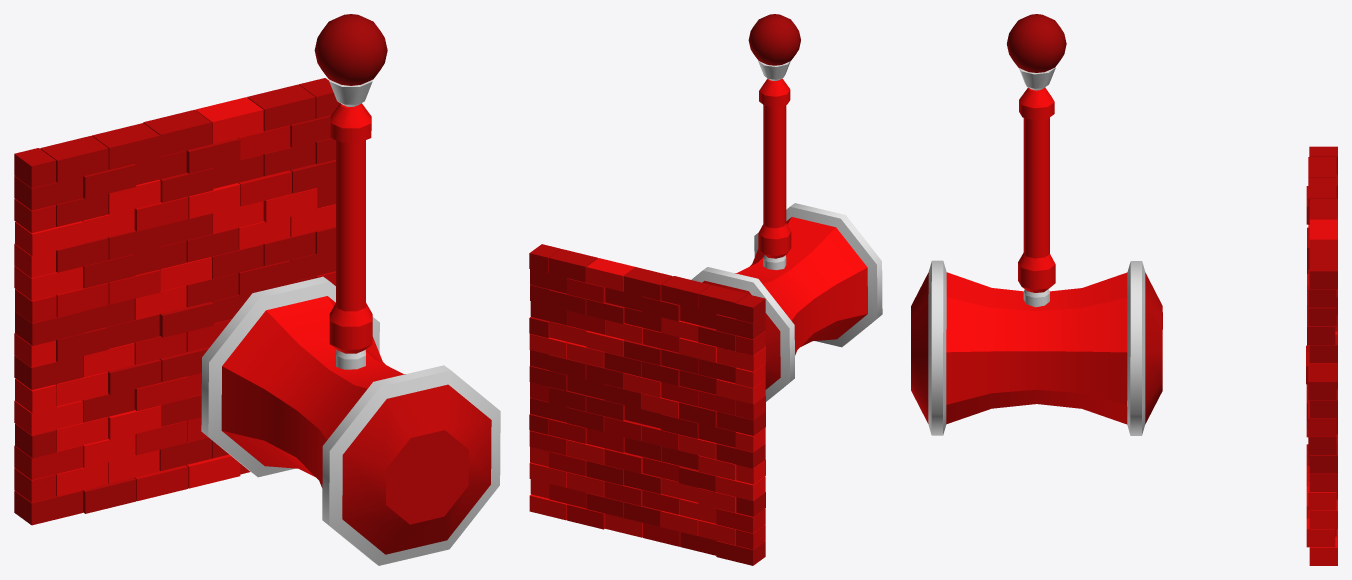
File: brickwall_obstacle.fbx
3 renders of one model, left to right at view 1: azimuth 30°, elevation 25°; view 2: azimuth 150°, elevation 25°; view 3: azimuth 270°, elevation 25°, orthographic. The views are drawn at different scales.
Visible parts, largest first — view 1: hammer_obstacle, Cube.102, Cube.098, Cube.099, Cube.100, Cube.101, Cube.078, Cube, Cube.026, Cube.052, Cube.091, Cube.039 (+69 smaller); view 2: hammer_obstacle, Cube.100, Cube.098, Cube.102, Cube.099, Cube.101, Cube.026, Cube.091, Cube.013, Cube, Cube.039, Cube.065 (+86 smaller); view 3: hammer_obstacle, Cube.103, Cube.099, Cube.100, Cube.012, Cube.098, Cube.101, Cube.102, Cube.005, Cube.083, Cube.096, Cube.077 (+10 smaller).
Part boxes in pixels (bbox=[...]): hammer_obstacle: bbox=[201, 14, 500, 565]; Cube.102: bbox=[247, 84, 315, 131]; Cube.098: bbox=[40, 135, 108, 182]; Cube.099: bbox=[92, 123, 160, 169]; Cube.100: bbox=[143, 110, 211, 156]; Cube.101: bbox=[195, 97, 263, 143]; Cube.078: bbox=[15, 221, 83, 256]; Cube: bbox=[14, 490, 82, 525]; Cube.026: bbox=[14, 400, 82, 435]; Cube.052: bbox=[15, 311, 83, 345]; Cube.091: bbox=[14, 176, 82, 210]; Cube.039: bbox=[14, 355, 82, 389]; hammer_obstacle: bbox=[691, 14, 882, 401]; Cube.100: bbox=[623, 267, 672, 300]; Cube.098: bbox=[698, 285, 747, 318]; Cube.102: bbox=[549, 249, 597, 282]; Cube.099: bbox=[661, 276, 710, 309]; Cube.101: bbox=[586, 258, 635, 291]; Cube.026: bbox=[716, 476, 765, 500]; Cube.091: bbox=[716, 314, 765, 339]; Cube.013: bbox=[716, 508, 765, 533]; Cube: bbox=[716, 541, 765, 565]; Cube.039: bbox=[716, 443, 765, 468]; Cube.065: bbox=[716, 379, 765, 404]; hammer_obstacle: bbox=[911, 14, 1162, 435]; Cube.103: bbox=[1309, 260, 1337, 289]; Cube.099: bbox=[1308, 177, 1336, 216]; Cube.100: bbox=[1309, 198, 1337, 219]; Cube.012: bbox=[1306, 518, 1335, 547]; Cube.098: bbox=[1308, 157, 1336, 177]; Cube.101: bbox=[1309, 219, 1337, 239]; Cube.102: bbox=[1309, 240, 1337, 260]; Cube.005: bbox=[1309, 529, 1337, 565]; Cube.083: bbox=[1307, 306, 1335, 344]; Cube.096: bbox=[1308, 269, 1336, 307]; Cube.077: bbox=[1309, 334, 1337, 363].
Size of the model in its own units: 119 by 217 by 173.
